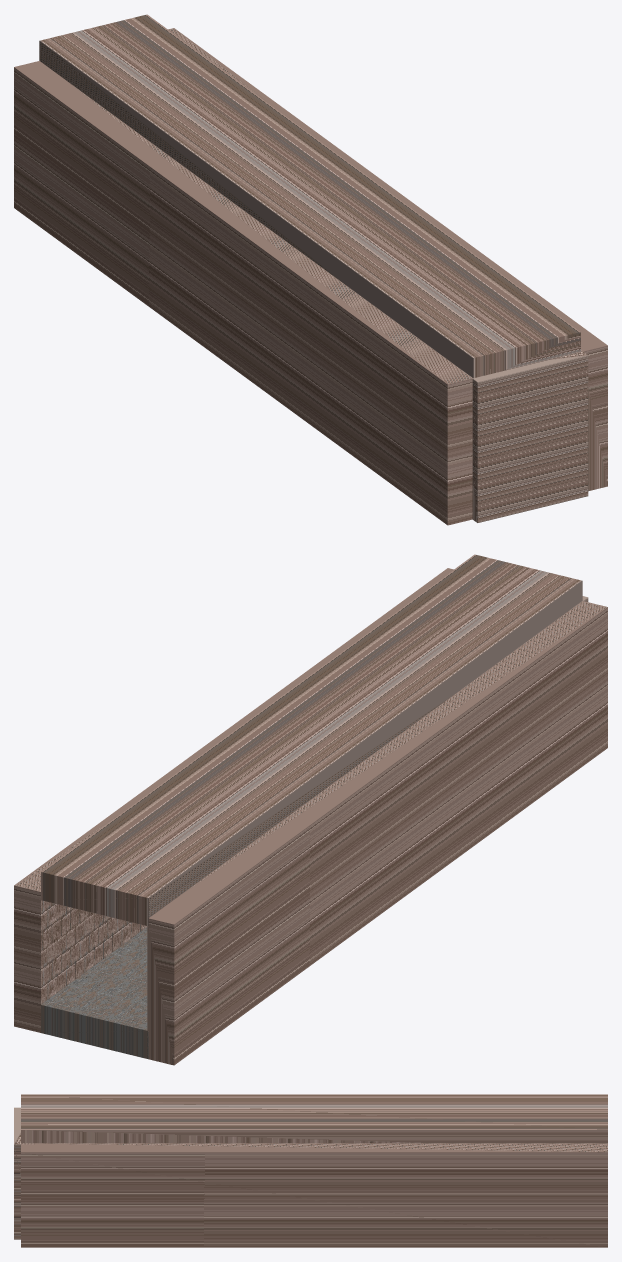
File: world.glb
3 views of the same model, one above another, from view 1: azimuth 30°, elevation 25°; view 2: azimuth 150°, elevation 25°; view 3: azimuth 270°, elevation 25° (orthographic). The views are drawn at different scales.
Parts seen in each view (by area): view 1: Cube.002, Cube.003, Cube.005, Cube.001; view 2: Cube.002, Cube.003, Cube.001, Cube.004; view 3: Cube.001, Cube.003, Cube.005.
Boxes of the visible parts, x1=… form: Cube.002: x1=14, y1=61, x2=472, y2=525; Cube.003: x1=39, y1=14, x2=580, y2=378; Cube.005: x1=462, y1=350, x2=588, y2=522; Cube.001: x1=168, y1=28, x2=607, y2=491; Cube.002: x1=147, y1=601, x2=607, y2=1065; Cube.003: x1=41, y1=554, x2=582, y2=926; Cube.001: x1=14, y1=568, x2=453, y2=1032; Cube.004: x1=41, y1=927, x2=148, y2=1059; Cube.001: x1=21, y1=1143, x2=607, y2=1247; Cube.003: x1=21, y1=1094, x2=607, y2=1143; Cube.005: x1=14, y1=1107, x2=34, y2=1239.
Bounding box in the file's own units: 10 × 9.61 × 47.45.
Materials: 5 (5 with a texture image).
